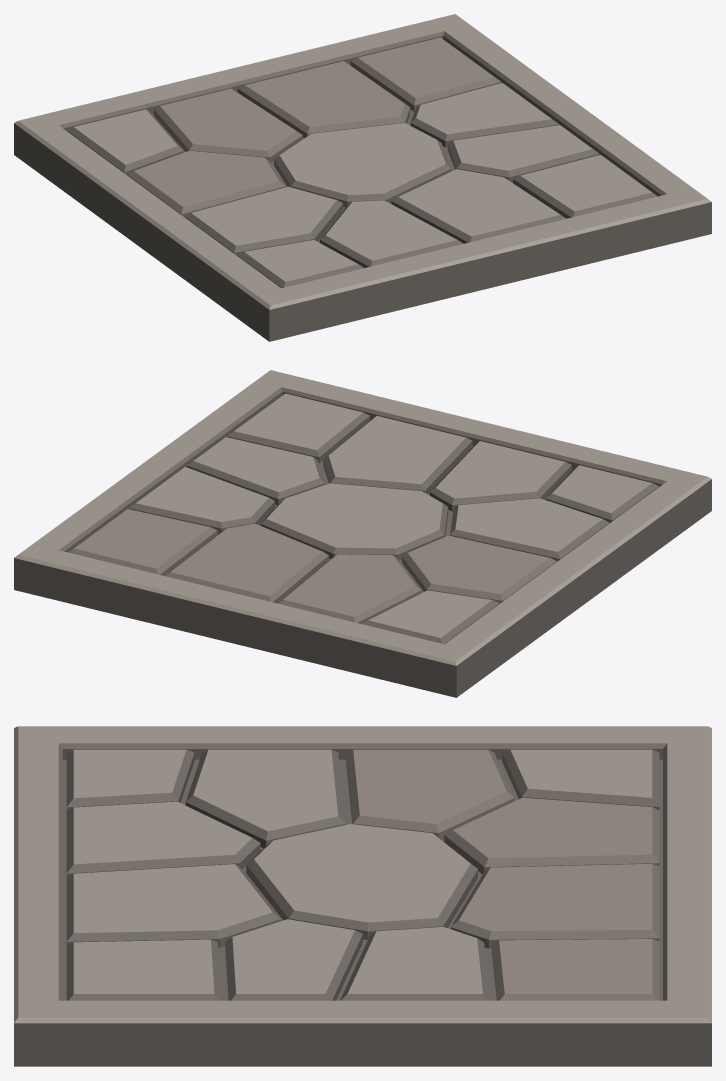
File: FMS_Workshop_MOD_02_Plain.fbx
3 views of the same model, one above another, from view 1: azimuth 30°, elevation 25°; view 2: azimuth 150°, elevation 25°; view 3: azimuth 270°, elevation 25° (orthographic). The views are drawn at different scales.
Parts seen in each view (by area): view 1: FMS_Workshop_MOD_02_Plain_Body; view 2: FMS_Workshop_MOD_02_Plain_Body; view 3: FMS_Workshop_MOD_02_Plain_Body.
Boxes of the visible parts, x1=… form: FMS_Workshop_MOD_02_Plain_Body: x1=14, y1=14, x2=711, y2=341; FMS_Workshop_MOD_02_Plain_Body: x1=14, y1=370, x2=711, y2=697; FMS_Workshop_MOD_02_Plain_Body: x1=14, y1=726, x2=711, y2=1066.
Bounding box in the file's own units: 2 × 0.15 × 2.
